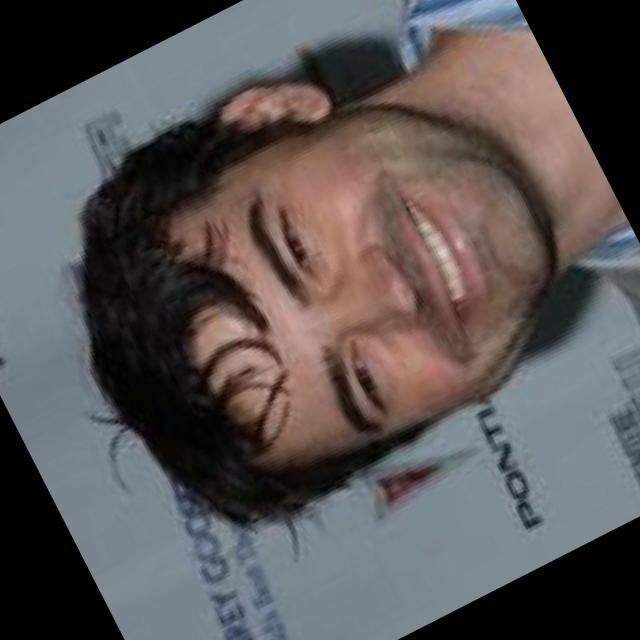bareface: (122, 52, 614, 514)
